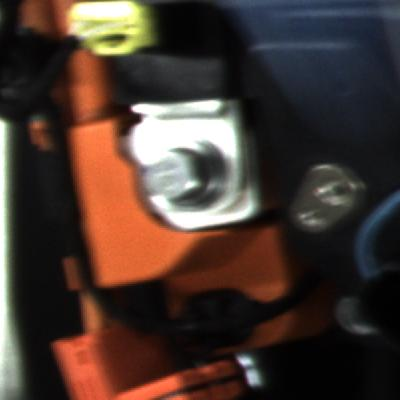nut_b: (139, 137, 235, 220)
